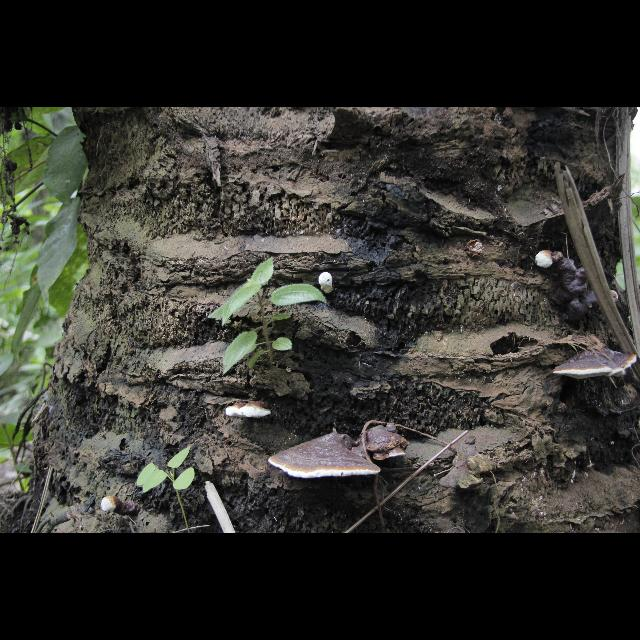ganoderma: (269, 434, 382, 481), (554, 347, 639, 381), (556, 251, 598, 319), (362, 425, 410, 462), (226, 401, 273, 419)
primordium: (535, 251, 555, 270), (319, 273, 335, 295), (102, 498, 120, 515), (611, 292, 619, 303)
